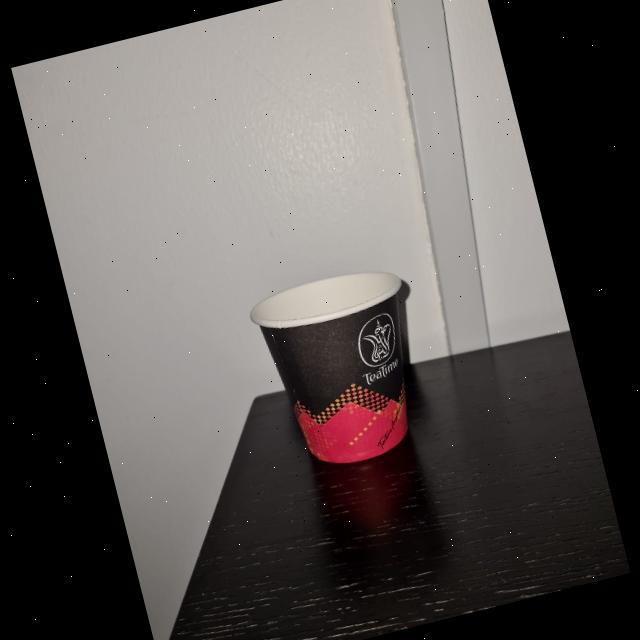trash: (241, 264, 443, 478)
